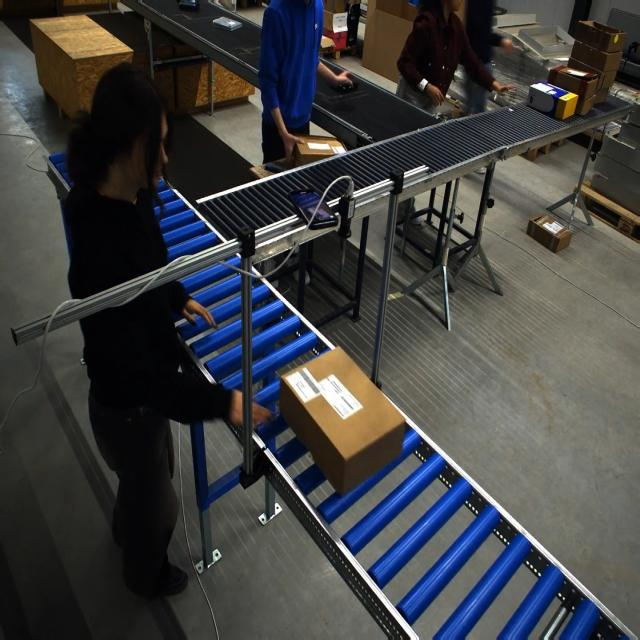box: (281, 349, 390, 492), (291, 135, 340, 168)
product: (212, 17, 242, 31), (336, 81, 356, 93)
